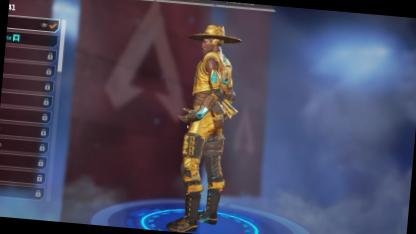Target: (172, 16, 246, 198)
